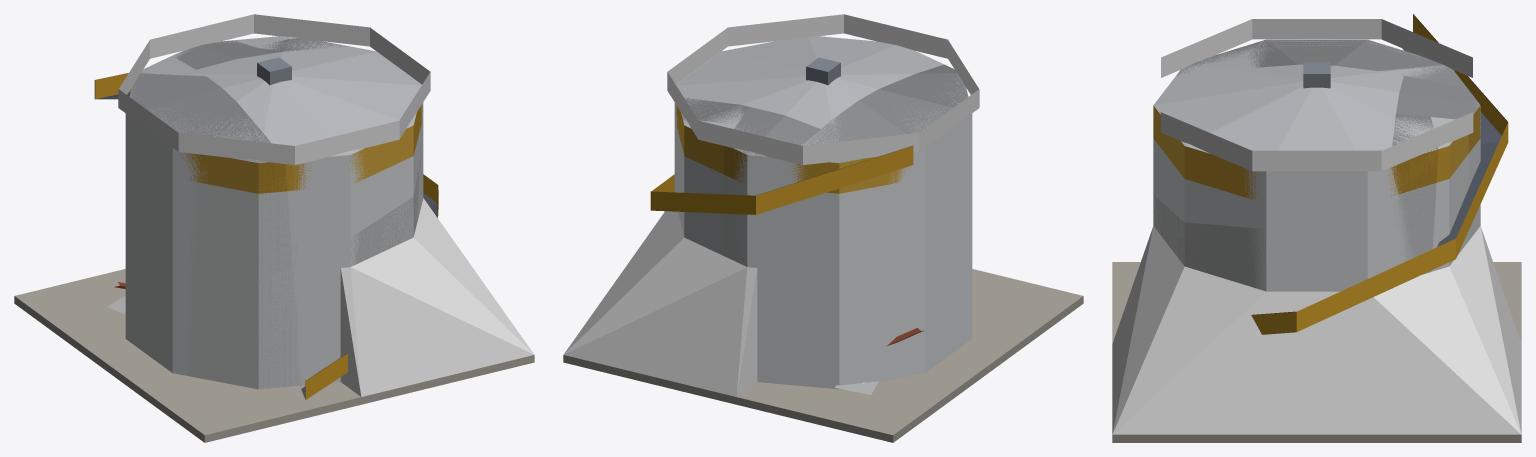
File: bld_tank_a.glb
The picture shows the model from 3 angles, left to right: view 1: azimuth 30°, elevation 25°; view 2: azimuth 150°, elevation 25°; view 3: azimuth 270°, elevation 25°; orthographic projection. The views are drawn at different scales.
Parts seen in each view (by area): view 1: damaged, intact, chunk_01, chunk_00, chunk_04, chunk_02, chunk_05, chunk_06; view 2: damaged, intact, chunk_03, chunk_02, chunk_06, chunk_00, chunk_04, chunk_07, rubble; view 3: intact, chunk_01, chunk_03, damaged, chunk_07, chunk_05, chunk_02, chunk_00.
Part boxes in pixels (<box>): damaged: <box>14,38,534,442</box>; intact: <box>129,14,438,388</box>; chunk_01: <box>340,198,534,404</box>; chunk_00: <box>107,240,361,442</box>; chunk_04: <box>146,128,340,271</box>; chunk_02: <box>14,225,146,370</box>; chunk_05: <box>340,102,423,267</box>; chunk_06: <box>125,113,146,239</box>; damaged: <box>563,64,1083,442</box>; intact: <box>650,14,978,262</box>; chunk_03: <box>563,211,757,404</box>; chunk_02: <box>736,244,984,442</box>; chunk_06: <box>757,132,946,271</box>; chunk_00: <box>946,225,1083,367</box>; chunk_04: <box>946,113,972,243</box>; chunk_07: <box>674,102,757,267</box>; rubble: <box>835,328,923,394</box>; intact: <box>1153,19,1508,331</box>; chunk_01: <box>1112,226,1322,442</box>; chunk_03: <box>1322,226,1521,442</box>; damaged: <box>1112,14,1521,442</box>; chunk_07: <box>1322,106,1480,291</box>; chunk_05: <box>1153,106,1322,291</box>; chunk_02: <box>1493,262,1521,341</box>; chunk_00: <box>1112,262,1140,342</box>.
Bounding box in the file's own units: 18 × 14 × 18.
